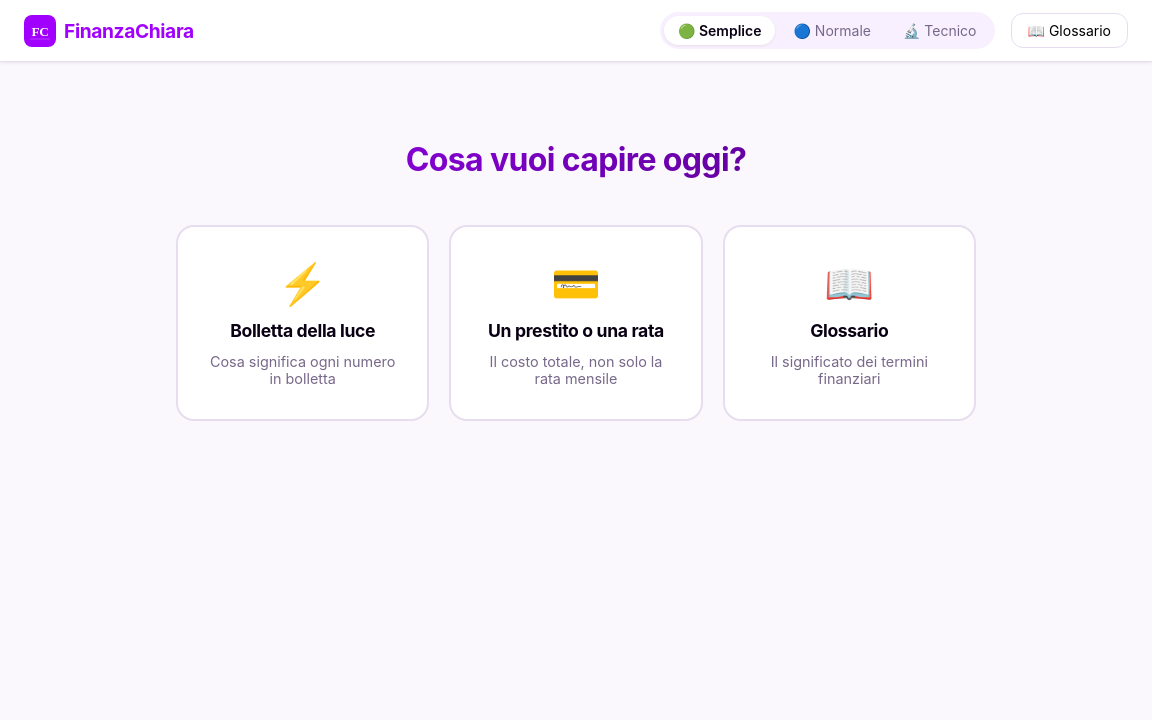
Flusso utente completo › il logo riporta all'Hub
Click the heading "Un prestito o una rata" at [576, 331], box 488,320 -> 664,341
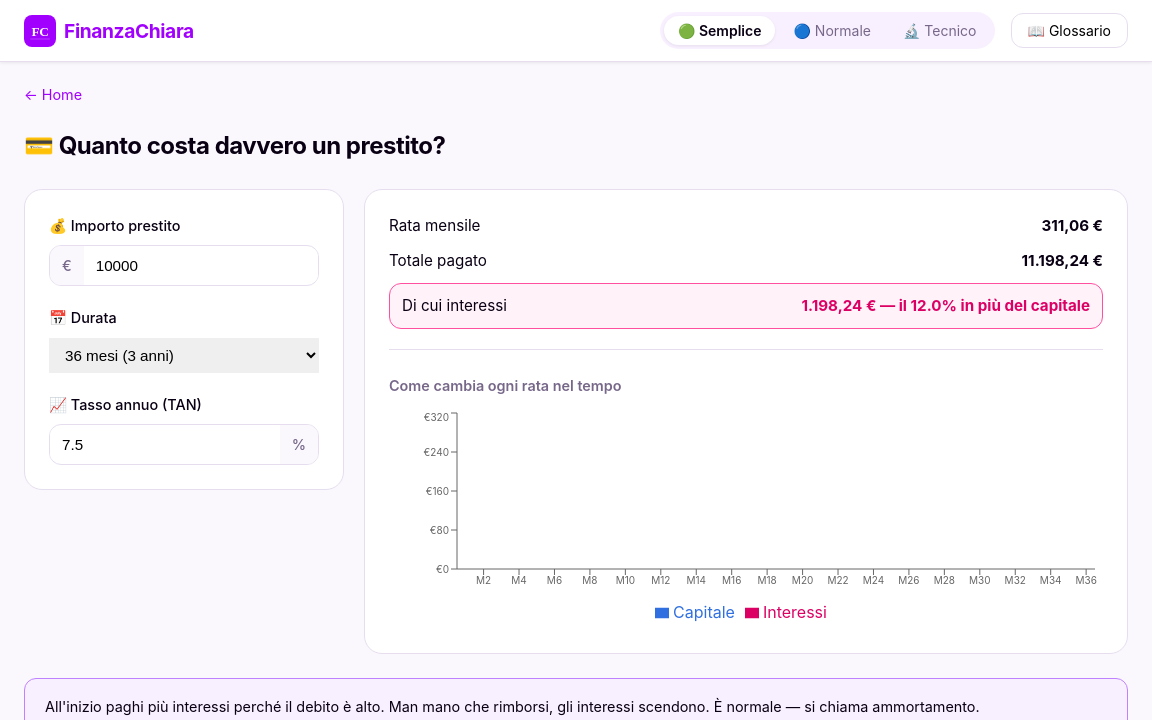
Click the button "FinanzaChiara" at [109, 30], box 24,14 -> 194,46
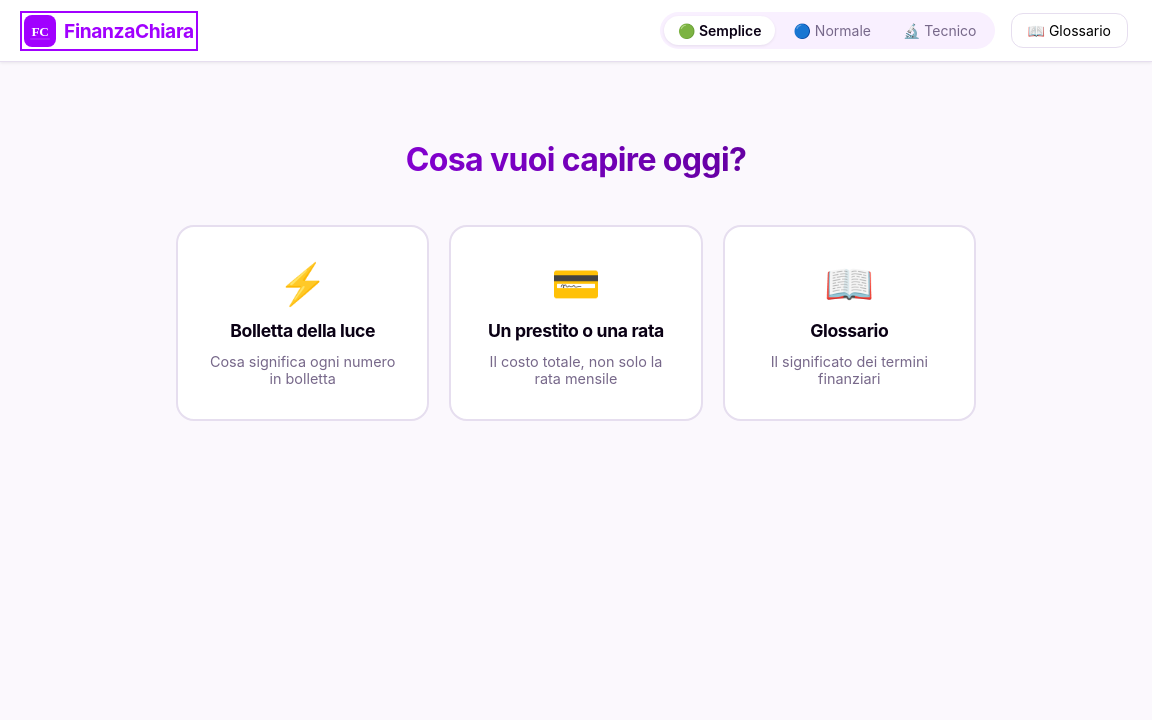
Expected: the heading "Cosa vuoi capire oggi?" is shown, 48,134 -> 1104,185
